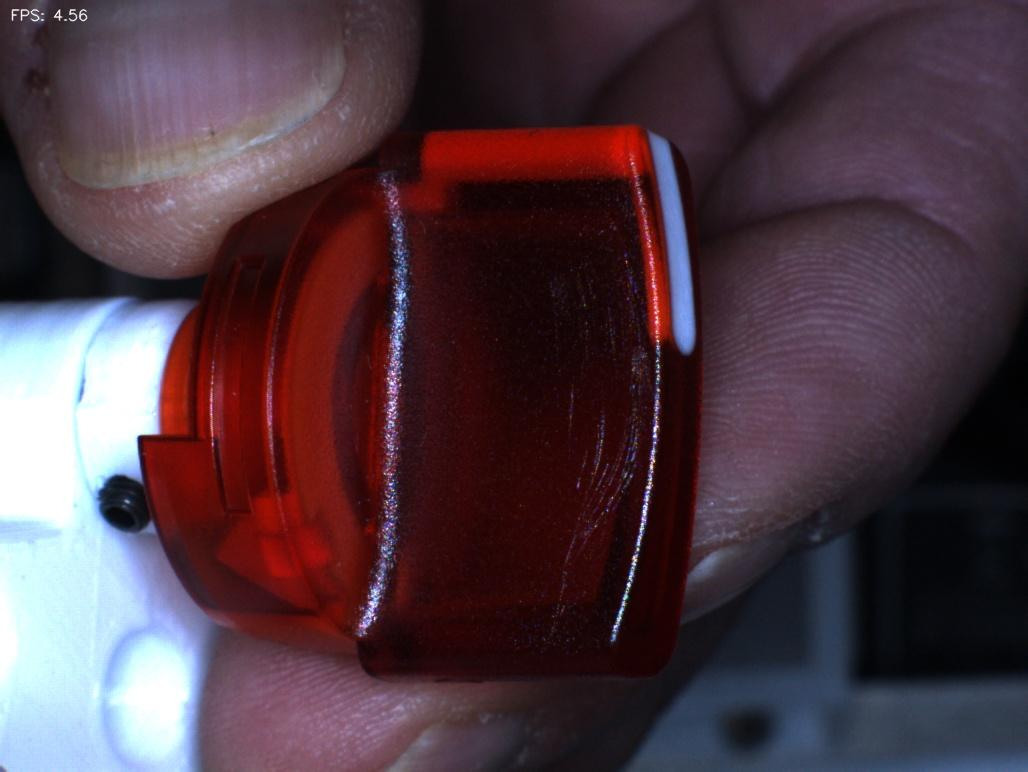Givrage: (548, 287, 646, 605)
